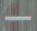No entry: (2, 1, 32, 30)
